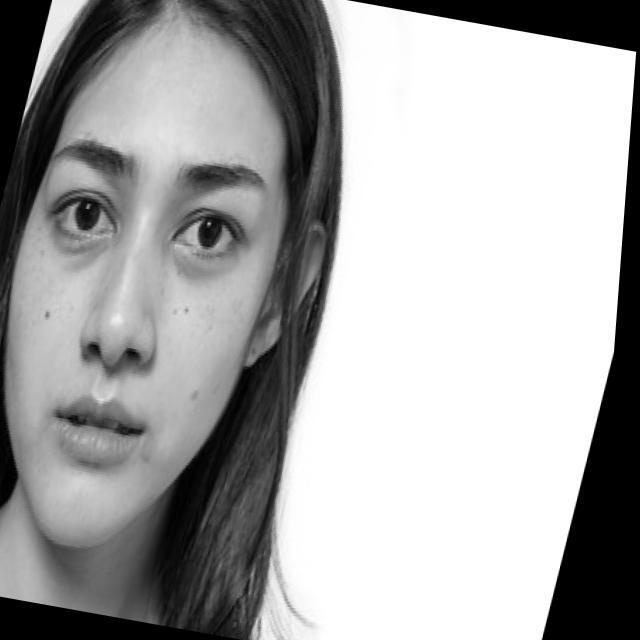puffy_eyes: (52, 224, 117, 270), (176, 249, 238, 281)
